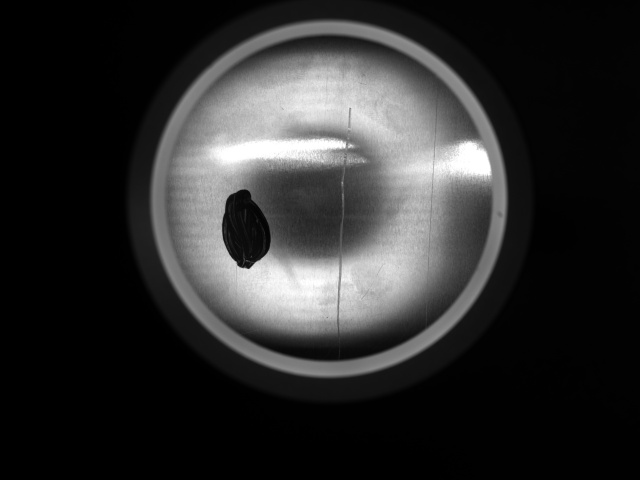ca_shang: (333, 107, 357, 341), (428, 79, 441, 324)
zang_wu: (220, 187, 274, 270)
